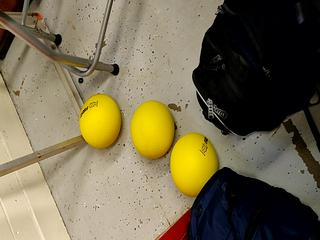power_cell: (166, 129, 222, 200), (126, 98, 182, 169), (72, 89, 128, 160)
